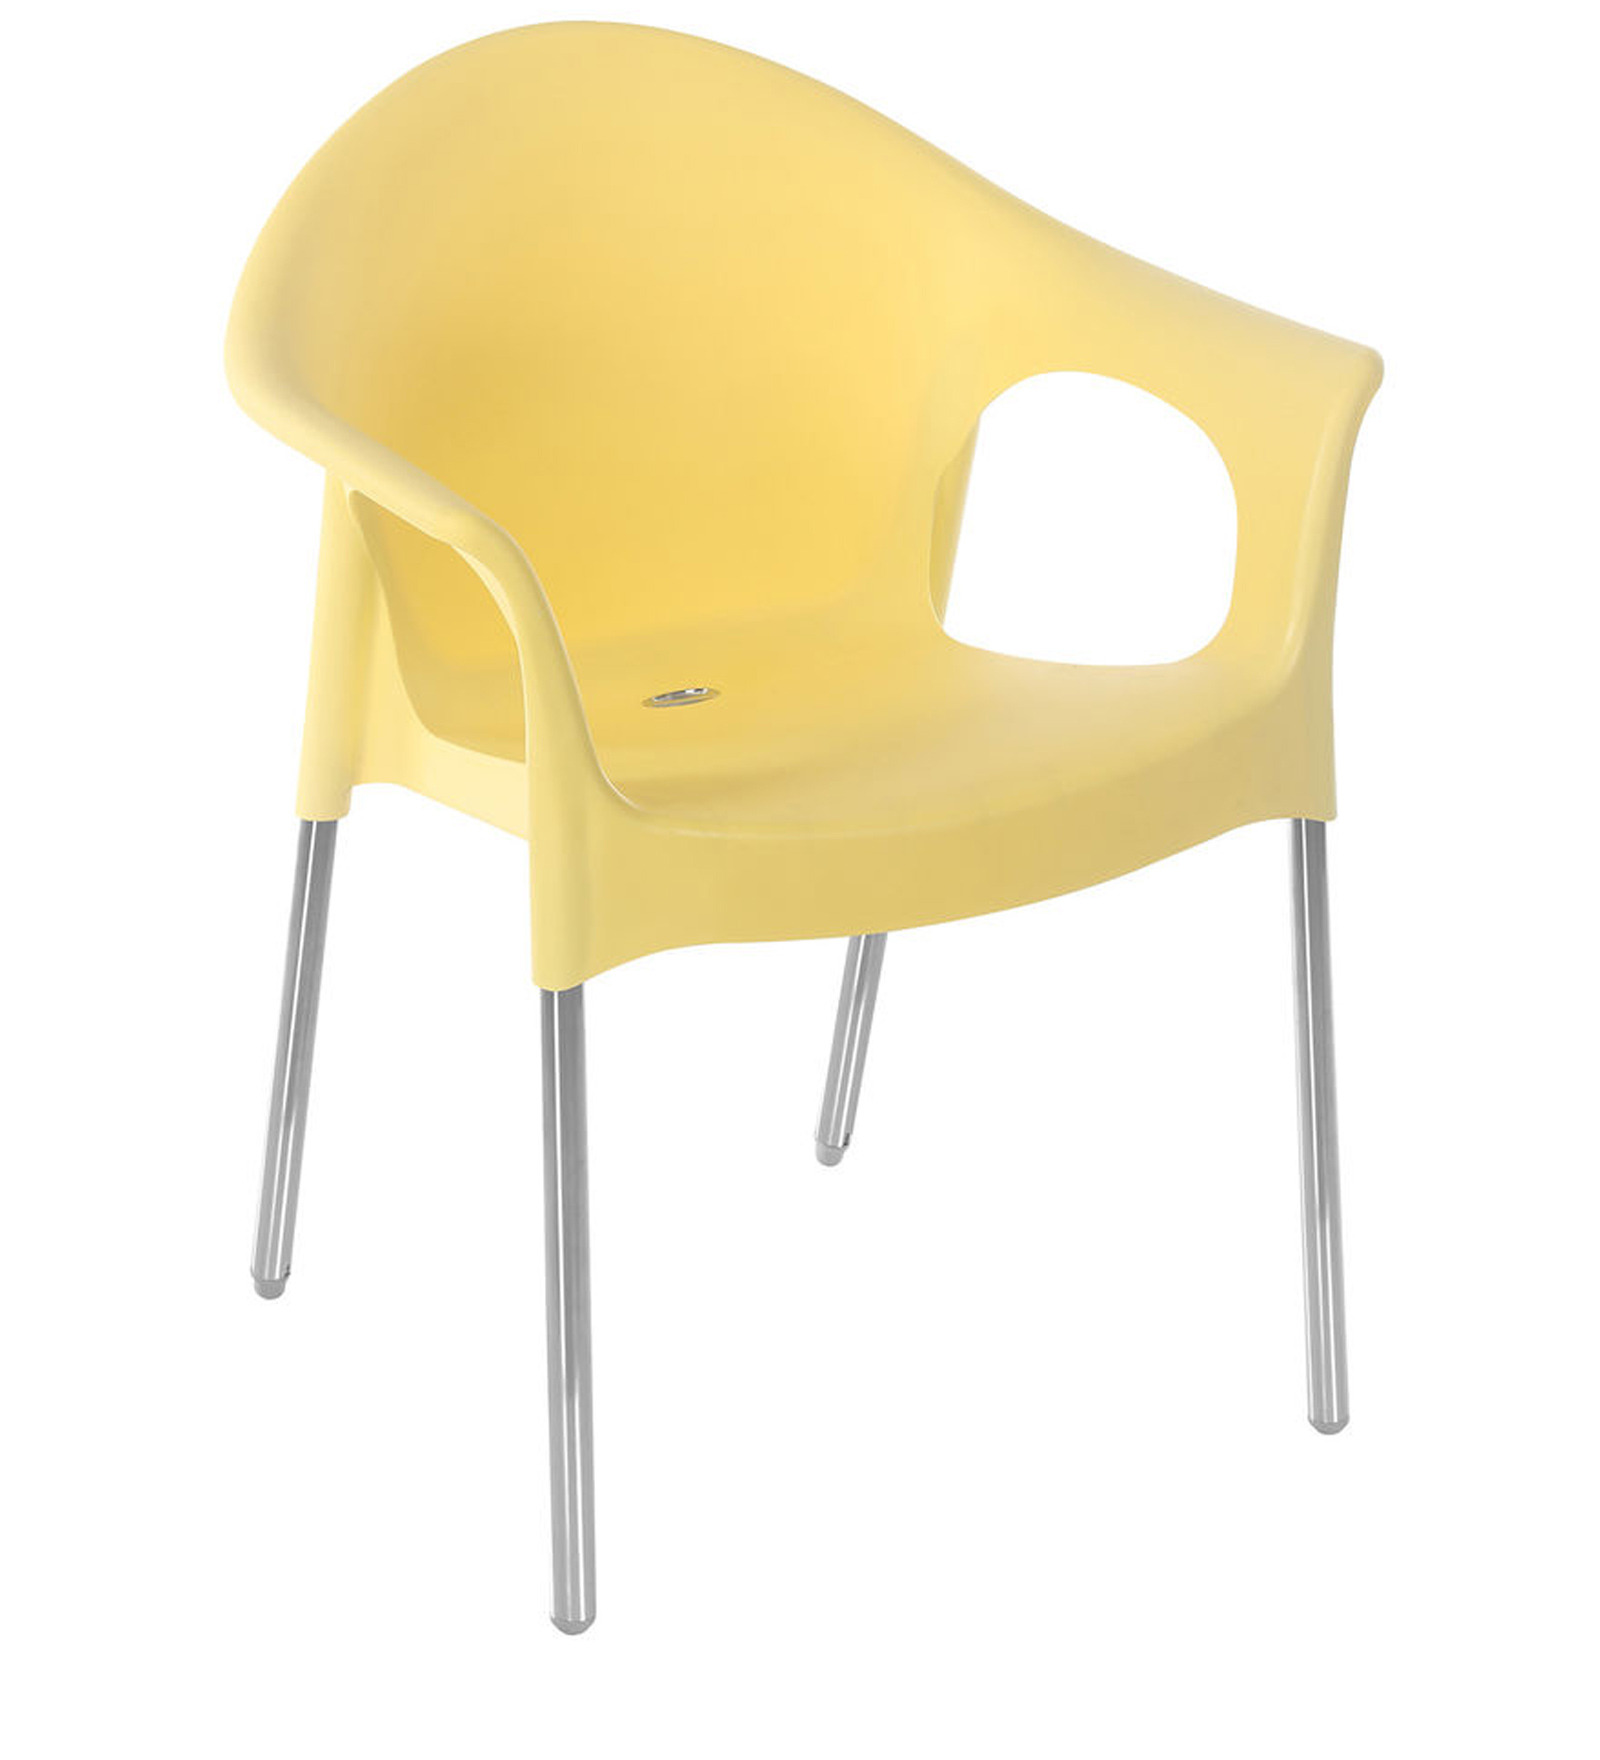Novella 09 Stainless Steel Chair in Yellow Colour by Nilkamal: (221, 17, 1390, 1637)
